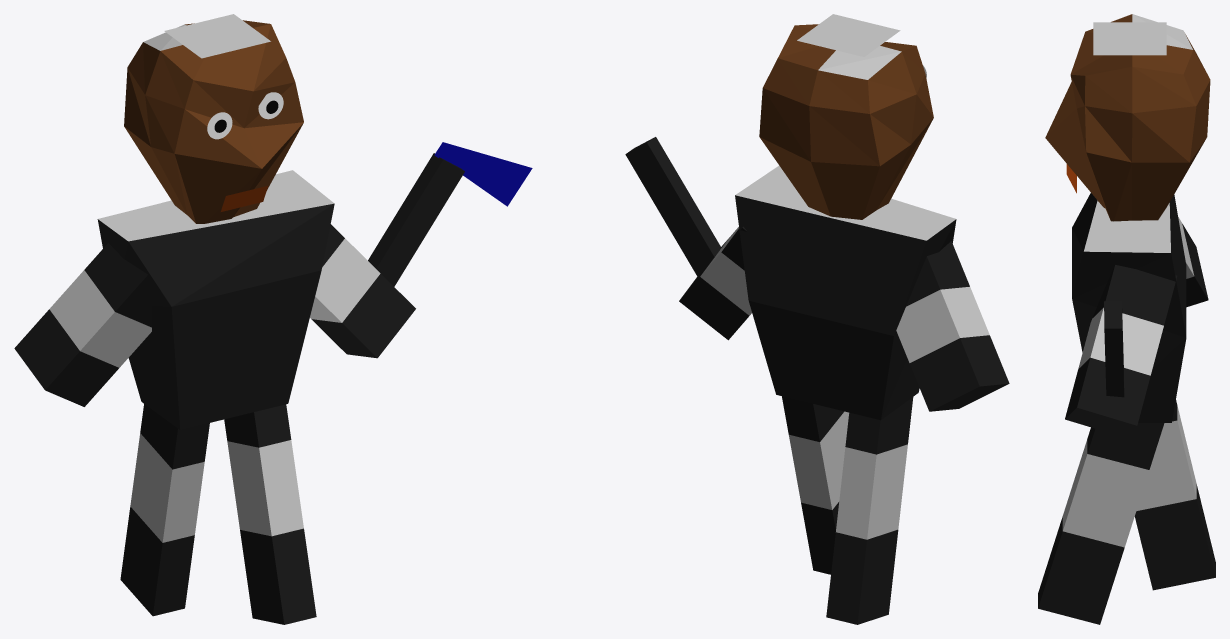
File: axeman2.obj
The picture shows the model from 3 angles, left to right: view 1: azimuth 30°, elevation 25°; view 2: azimuth 150°, elevation 25°; view 3: azimuth 270°, elevation 25°; orthographic projection. The views are drawn at different scales.
Visible parts, largest first — view 1: Cube.001, Cube, Cube.005, Cube.003, Cube.004, Cube.002, Cube.007, Plane.001, Plane.002; view 2: Cube.001, Cube, Cube.004, Cube.003, Cube.005, Cube.007, Cube.002, Plane.002; view 3: Cube, Cube.005, Cube.001, Cube.002, Cube.004, Plane.002, Cube.007, Cube.003.
Boxes of the visible parts, x1,y1,x2,y2 form: Cube.001: (97,170,334,429); Cube: (124,20,303,223); Cube.005: (224,404,316,624); Cube.003: (14,243,152,406); Cube.004: (120,404,209,616); Cube.002: (310,224,415,358); Cube.007: (368,153,464,286); Plane.001: (434,142,532,206); Plane.002: (164,14,270,58); Cube.001: (735,165,956,420); Cube: (759,24,933,219); Cube.004: (826,397,913,624); Cube.003: (896,241,1009,411); Cube.005: (782,396,849,574); Cube.007: (625,137,721,276); Cube.002: (679,226,751,340); Plane.002: (797,14,900,56); Cube: (1045,14,1210,221); Cube.005: (1038,423,1164,624); Cube.001: (1072,193,1186,422); Cube.002: (1065,265,1177,437); Cube.004: (1134,400,1215,590); Plane.002: (1093,22,1166,55); Cube.007: (1104,301,1124,397); Cube.003: (1178,216,1208,307).
Bounding box in the file's own units: 5.1 × 5.9 × 1.69.
